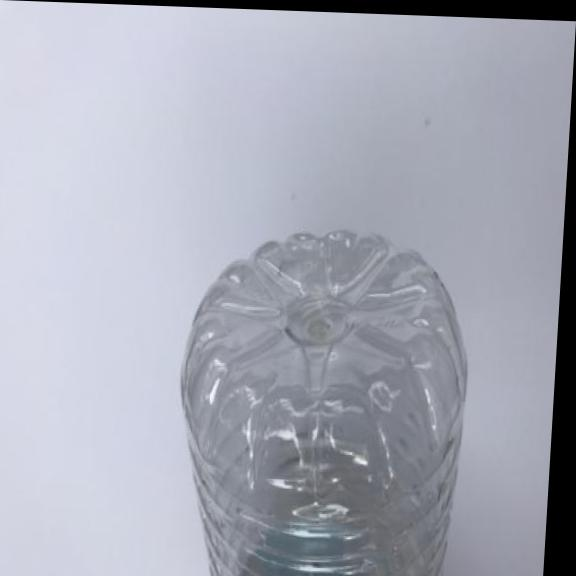Plastik: (159, 214, 480, 576)
